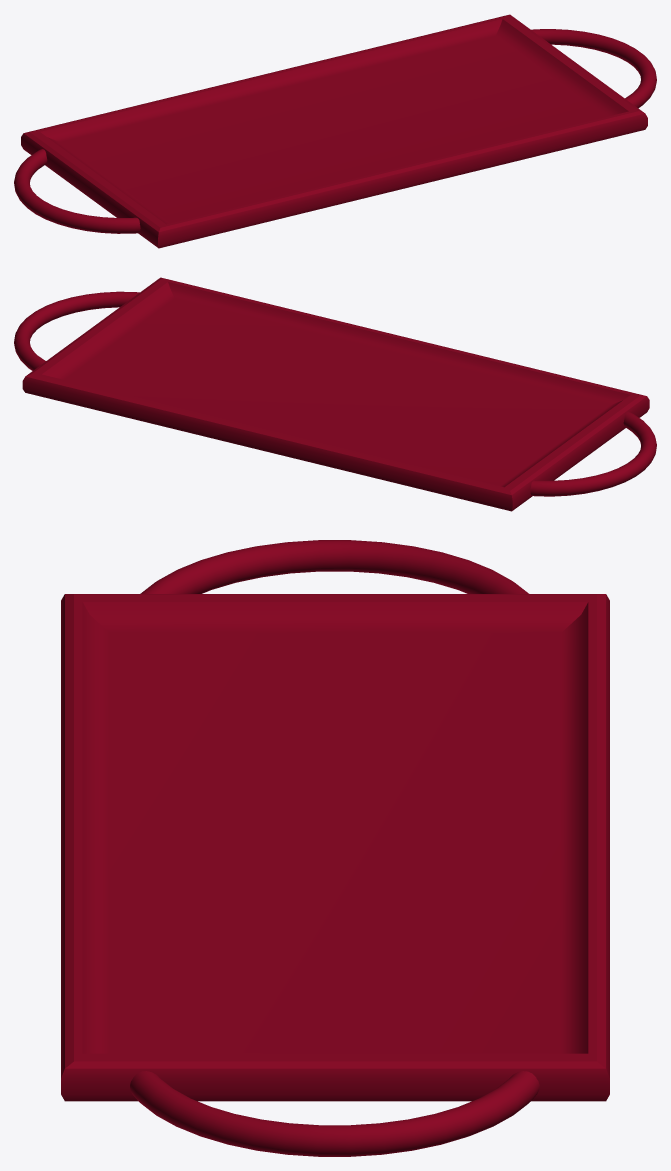
The model's file is uploads_files_2024397_Tavern_Melamine_plate_FBX.fbx.
3 renders of one model, top to bottom at view 1: azimuth 30°, elevation 25°; view 2: azimuth 150°, elevation 25°; view 3: azimuth 270°, elevation 25°, orthographic. The views are drawn at different scales.
Parts seen in each view (by area): view 1: Tavern_Melamine_plate; view 2: Tavern_Melamine_plate; view 3: Tavern_Melamine_plate.
Boxes of the visible parts, bbox=[...] form: Tavern_Melamine_plate: bbox=[14, 14, 656, 248]; Tavern_Melamine_plate: bbox=[14, 277, 656, 511]; Tavern_Melamine_plate: bbox=[61, 540, 609, 1156].
Bounding box in the file's own units: 114 × 44.1 × 3.5.
